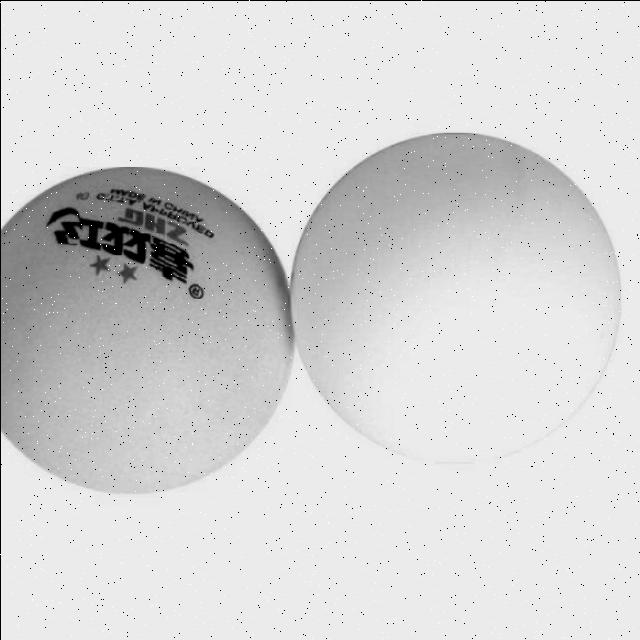ping-pong-ball: (288, 125, 621, 473), (0, 163, 297, 496)
